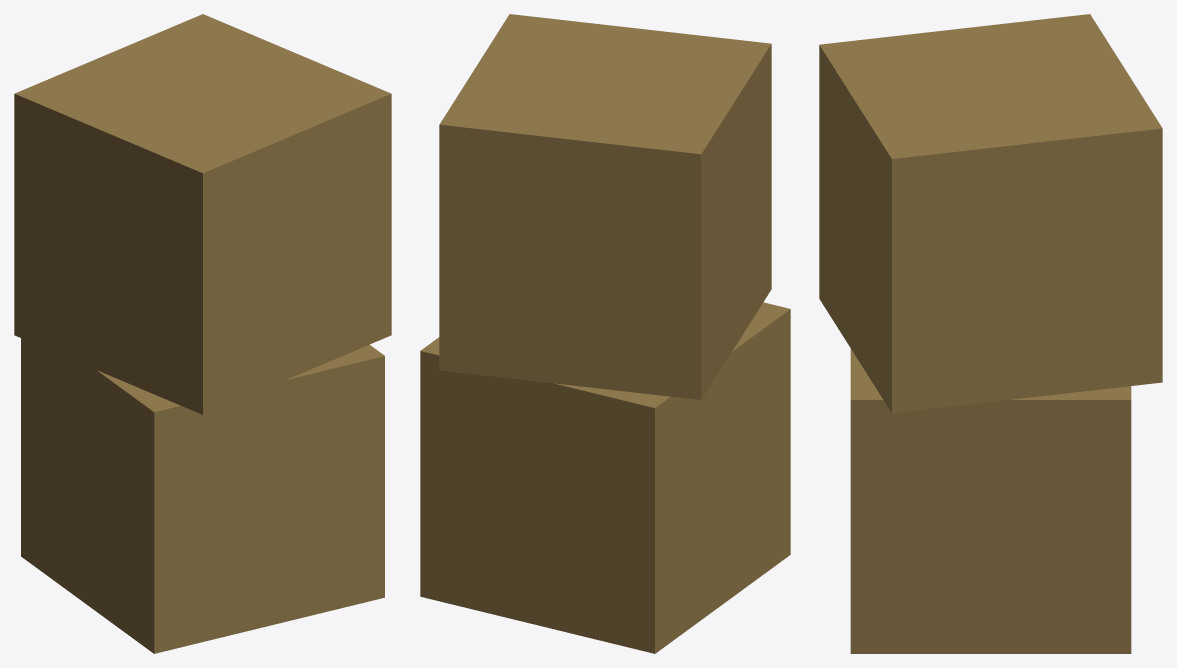
The picture shows the model from 3 angles, left to right: view 1: azimuth 30°, elevation 25°; view 2: azimuth 150°, elevation 25°; view 3: azimuth 270°, elevation 25°; orthographic projection. The views are drawn at different scales.
Visible parts, largest first — view 1: box_04; view 2: box_04; view 3: box_04.
Boxes of the visible parts, box(x1,y1,x2,y2) form: box_04: box(14, 14, 391, 653); box_04: box(420, 14, 790, 653); box_04: box(819, 14, 1162, 653).
Bounding box in the file's own units: 36.74 × 60 × 36.74.
